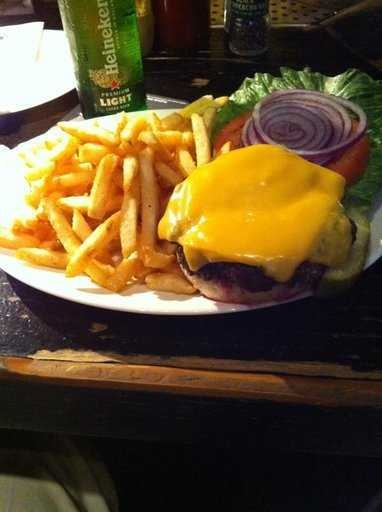hamburger: (147, 121, 372, 307)
